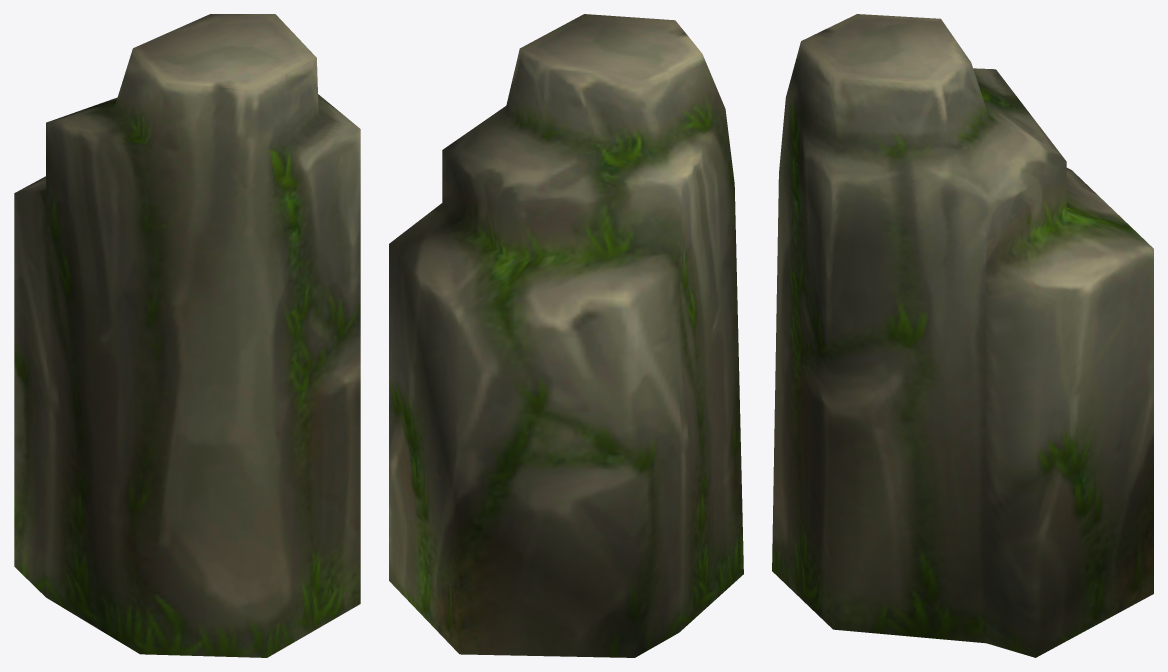
Rendered from RockFormation_4_5 (28).fbx.
3 views of the same model, side by side, from view 1: azimuth 30°, elevation 25°; view 2: azimuth 150°, elevation 25°; view 3: azimuth 270°, elevation 25° (orthographic). The views are drawn at different scales.
Visible parts, largest first — view 1: RockFormation_4_5 (28); view 2: RockFormation_4_5 (28); view 3: RockFormation_4_5 (28).
Boxes of the visible parts, bbox=[...] form: RockFormation_4_5 (28): bbox=[14, 14, 360, 657]; RockFormation_4_5 (28): bbox=[389, 14, 743, 657]; RockFormation_4_5 (28): bbox=[772, 14, 1153, 657].
Size of the model in its own units: 1841 by 3371 by 2197.
